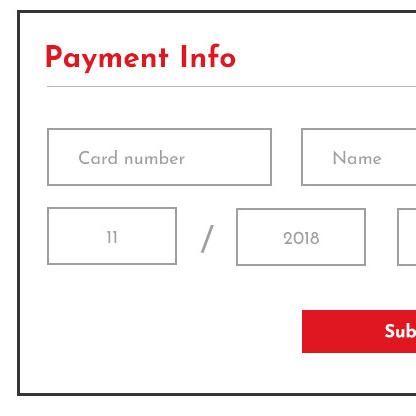field: (43, 126, 274, 187), (235, 207, 370, 270), (44, 206, 181, 268)
